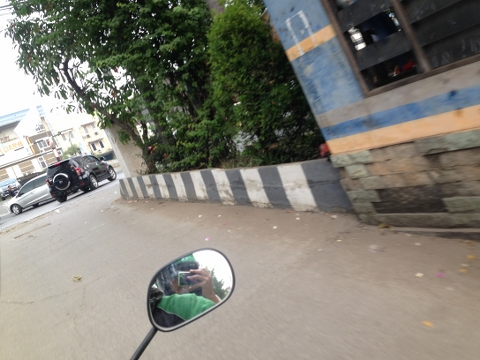mobil: (46, 155, 117, 202), (5, 172, 55, 215)
